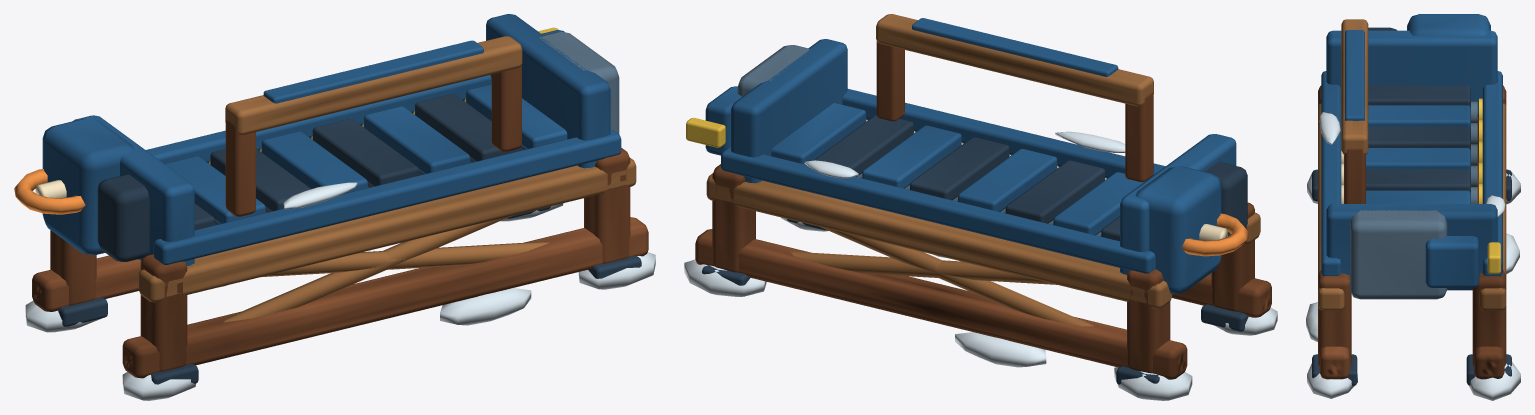
The model's file is conveyor_straight.glb.
3 views of the same model, side by side, from view 1: azimuth 30°, elevation 25°; view 2: azimuth 150°, elevation 25°; view 3: azimuth 270°, elevation 25° (orthographic). The views are drawn at different scales.
Visible parts, largest first — view 1: conveyor_straight; view 2: conveyor_straight; view 3: conveyor_straight.
Boxes of the visible parts, <box> form: conveyor_straight: <box>14,14,655,400</box>; conveyor_straight: <box>684,14,1277,400</box>; conveyor_straight: <box>1306,14,1520,400</box>.
Bounding box in the file's own units: 3.35 × 1.46 × 1.28.
